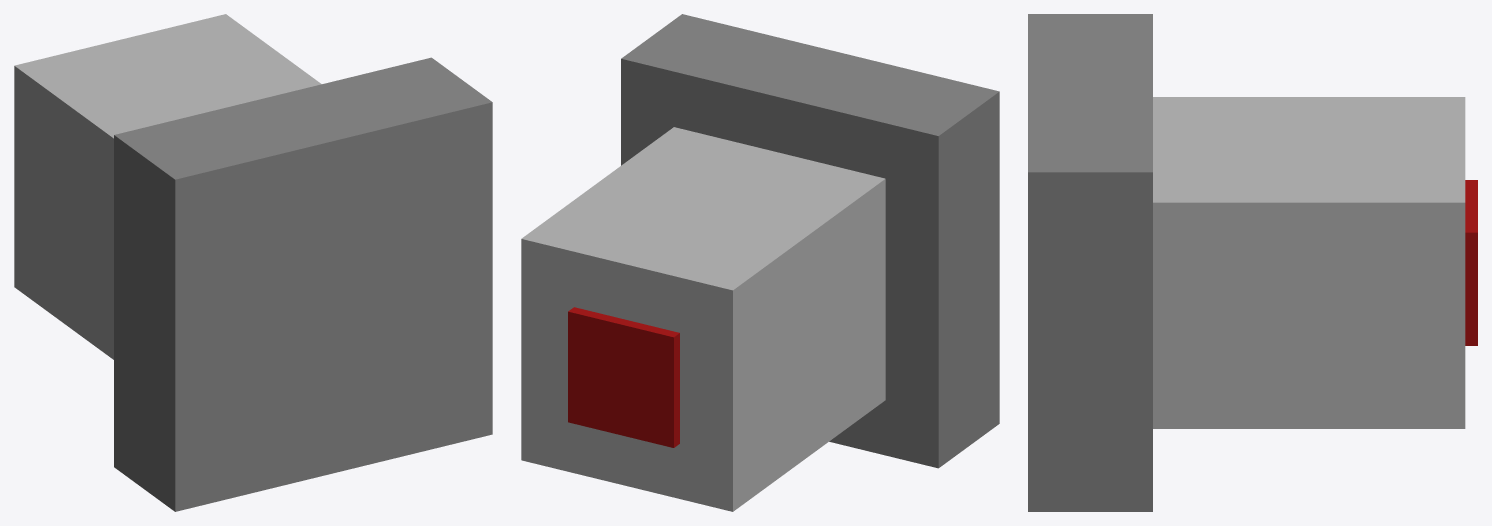
File: lampred.obj
The picture shows the model from 3 angles, left to right: view 1: azimuth 30°, elevation 25°; view 2: azimuth 150°, elevation 25°; view 3: azimuth 270°, elevation 25°; orthographic projection. The views are drawn at different scales.
Parts seen in each view (by area): view 1: generalMount, offGlass; view 2: offGlass, generalMount, buttonColor; view 3: offGlass, generalMount, buttonColor.
Boxes of the visible parts, box(x1,y1,x2,y2) form: generalMount: box(114, 57, 492, 511); offGlass: box(14, 14, 321, 359); offGlass: box(521, 127, 885, 511); generalMount: box(621, 14, 999, 468); buttonColor: box(568, 307, 679, 447); offGlass: box(1153, 97, 1465, 428); generalMount: box(1028, 14, 1152, 511); buttonColor: box(1465, 180, 1477, 345).
Size of the model in its own units: 0.1875 by 0.1875 by 0.225.
